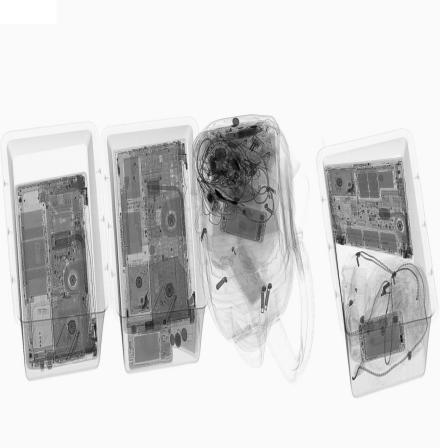Lighter: (250, 134, 272, 159)
